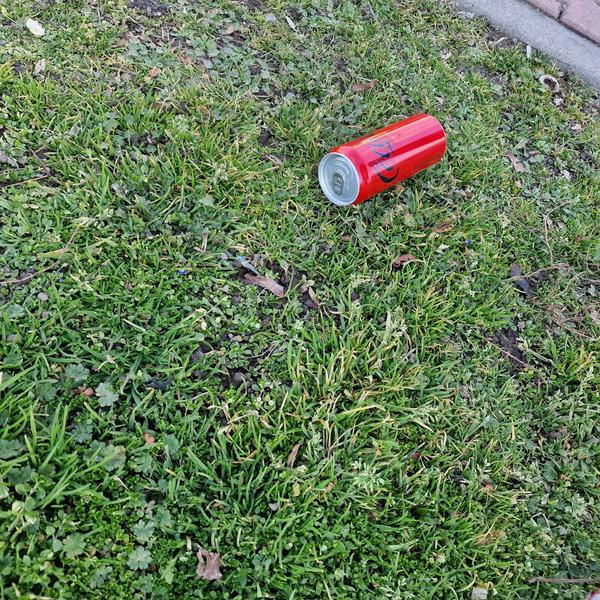can: (309, 104, 457, 214)
